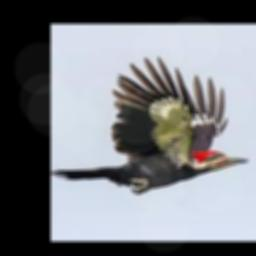Woodpecker: (52, 56, 251, 195)
